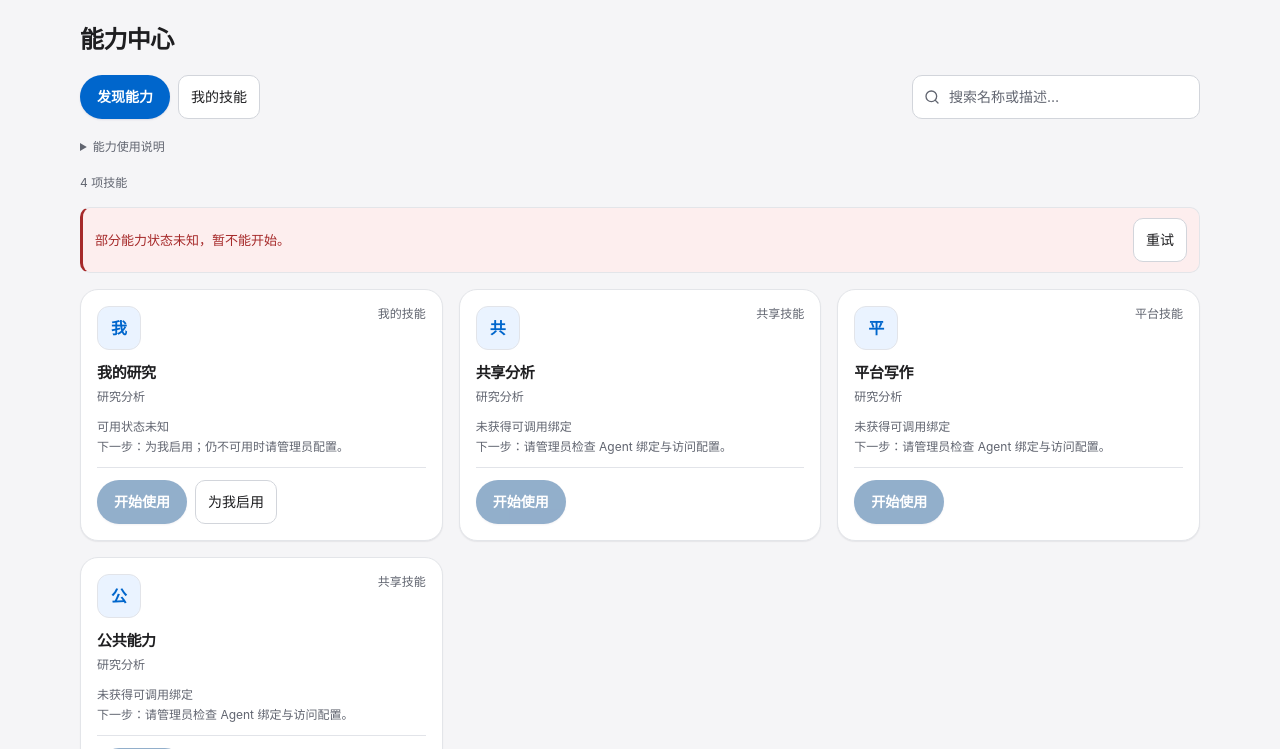
Scenario: 能力中心 › 保存成功但运行时仍未知，只展示已启用而不放开开始
Expected: the element "我的研究" is shown, [80,289,443,541]
Click the button "为我启用".
click(236, 502)  # box [195,480,277,524]
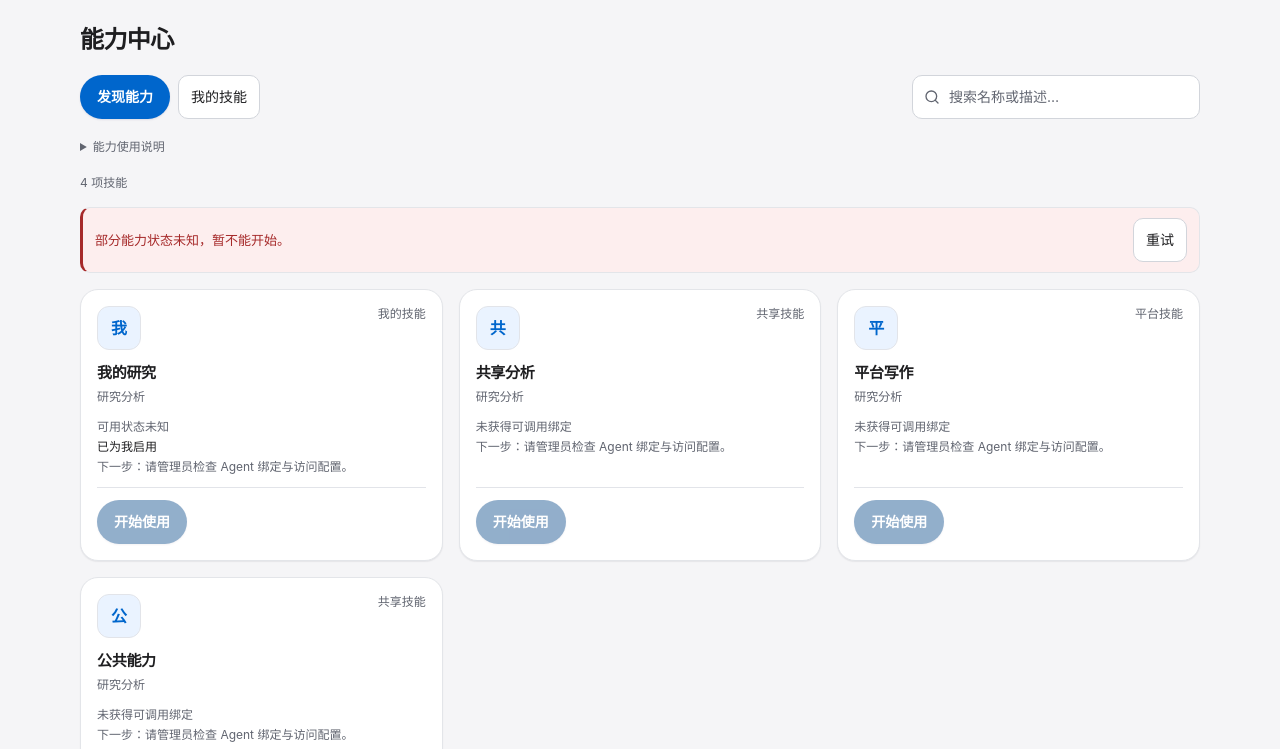
Expected: the button "开始使用" below "已为我启用" is disabled, [97,500,187,544]
Expected: the text "已为我启用" is shown, [97,439,157,454]
